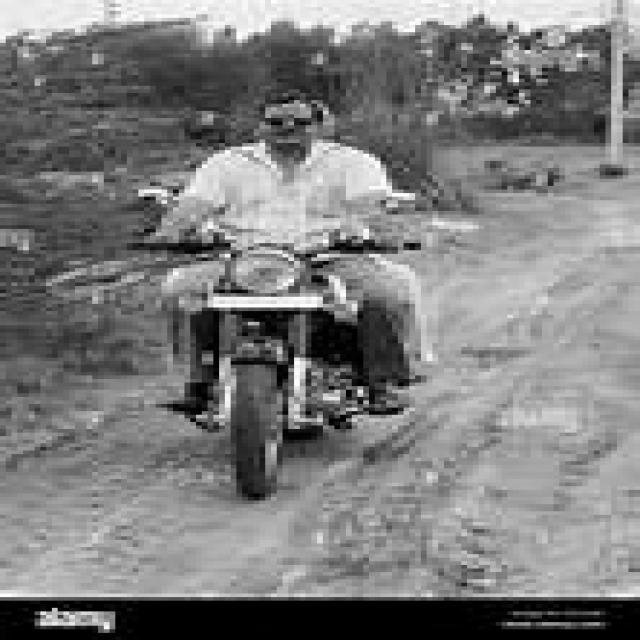Two Wheeler: (163, 240, 417, 498)
